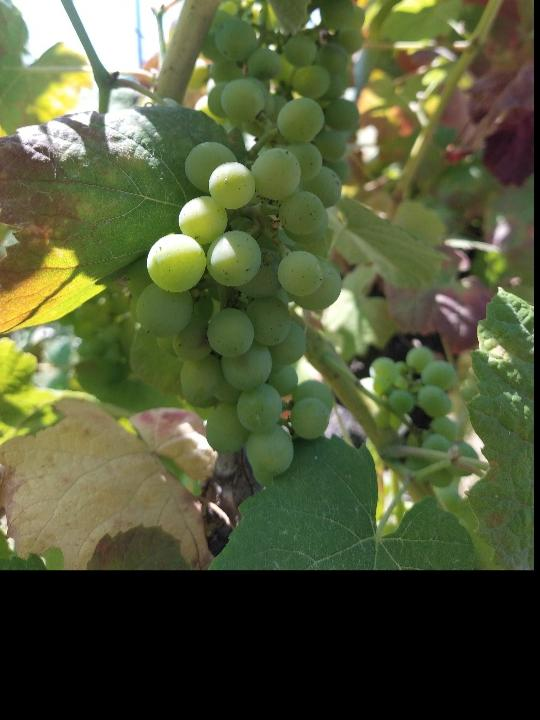grape: (125, 77, 337, 490)
